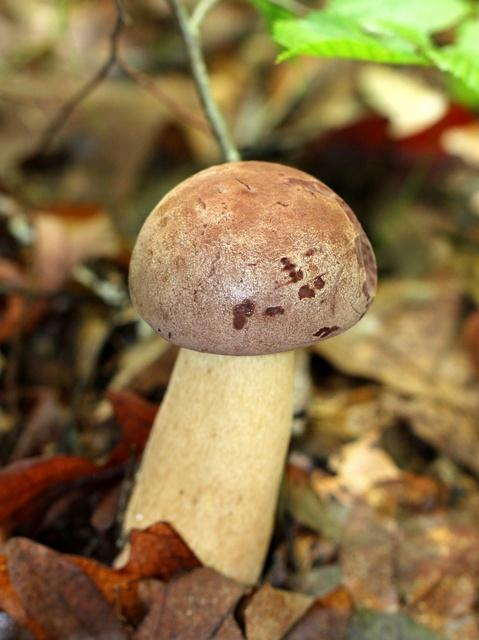Non-edible Mushroom: (110, 157, 378, 586)
